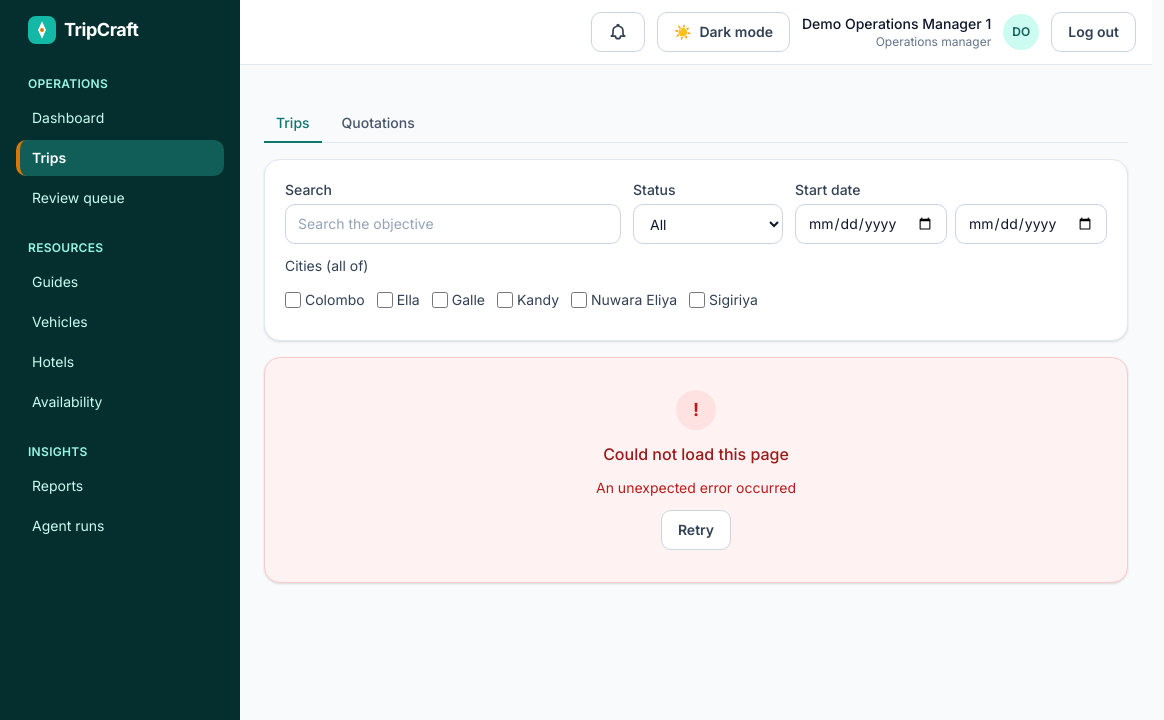
TripsListPage › shows an error state with Retry on a 500 and recovers
Check: the text "Could not load this page" is shown, box [603,442,789,466]
Click the button "Retry".
click(696, 530)  # box [661,510,731,550]
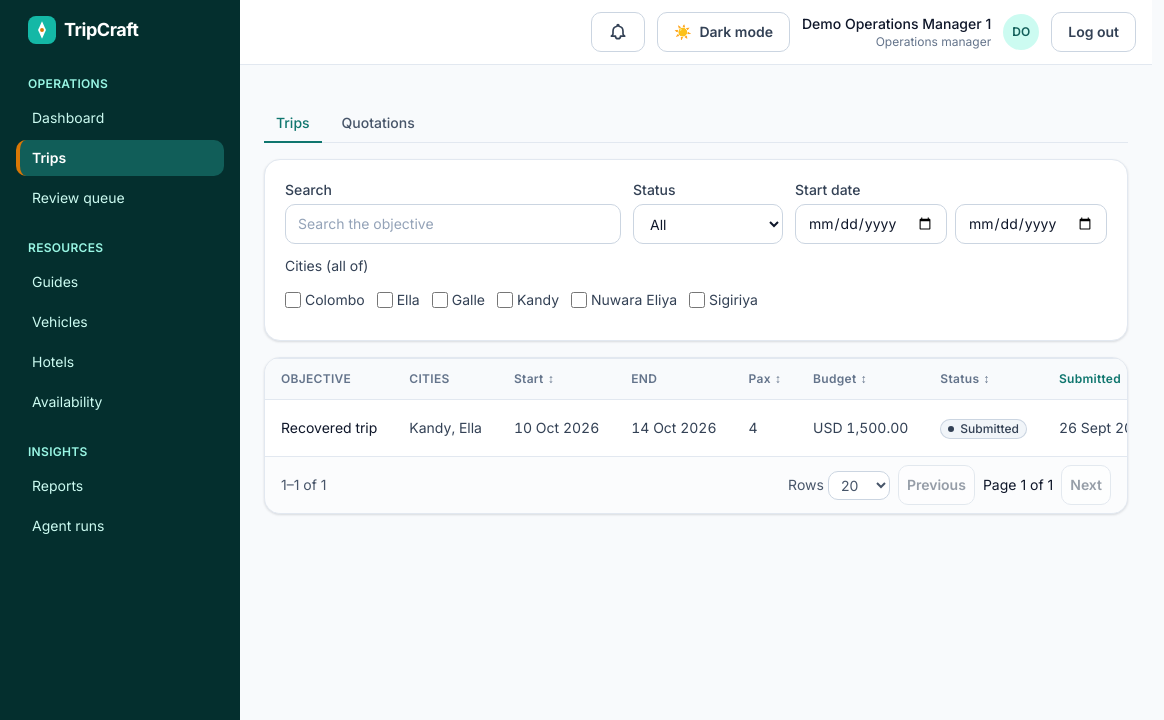
Check: the text "Recovered trip" is shown, box [265,400,393,456]
